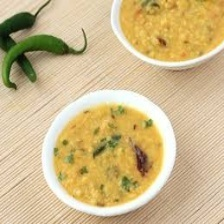dal: (116, 0, 224, 65)
